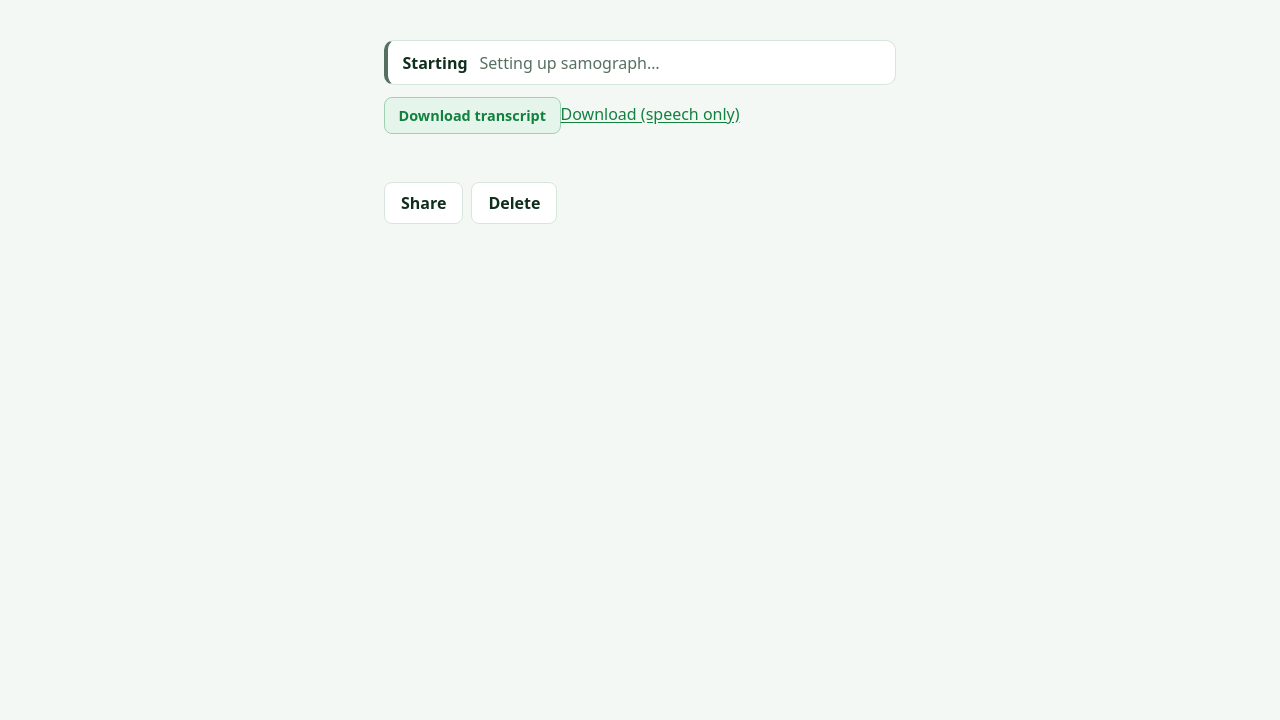
Scenario: OwnerCallView — owner per-call page (SPEC §4.1, Stories 1/2/4) › opens the Share modal from the Share button
Click the button "Share". click: (424, 203)
box: x1=384 y1=182 x2=463 y2=224
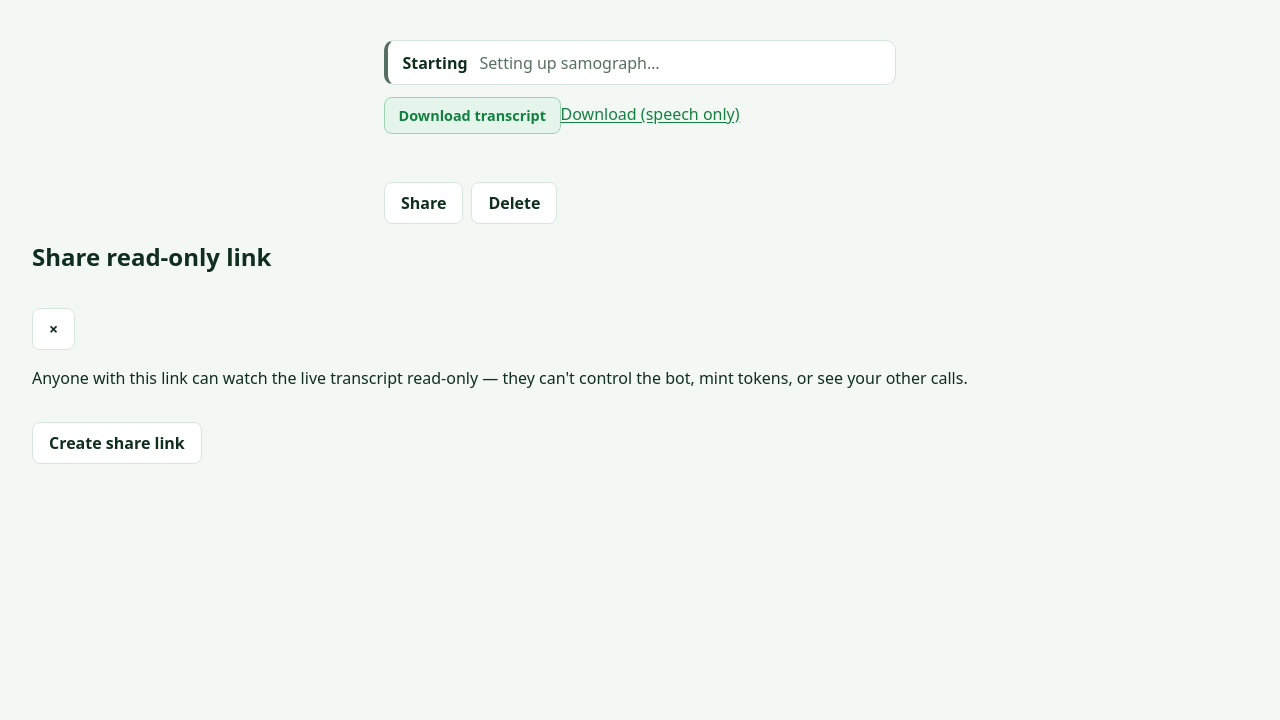
Expected: the button "Create share link" is shown, x1=32 y1=422 x2=202 y2=464
